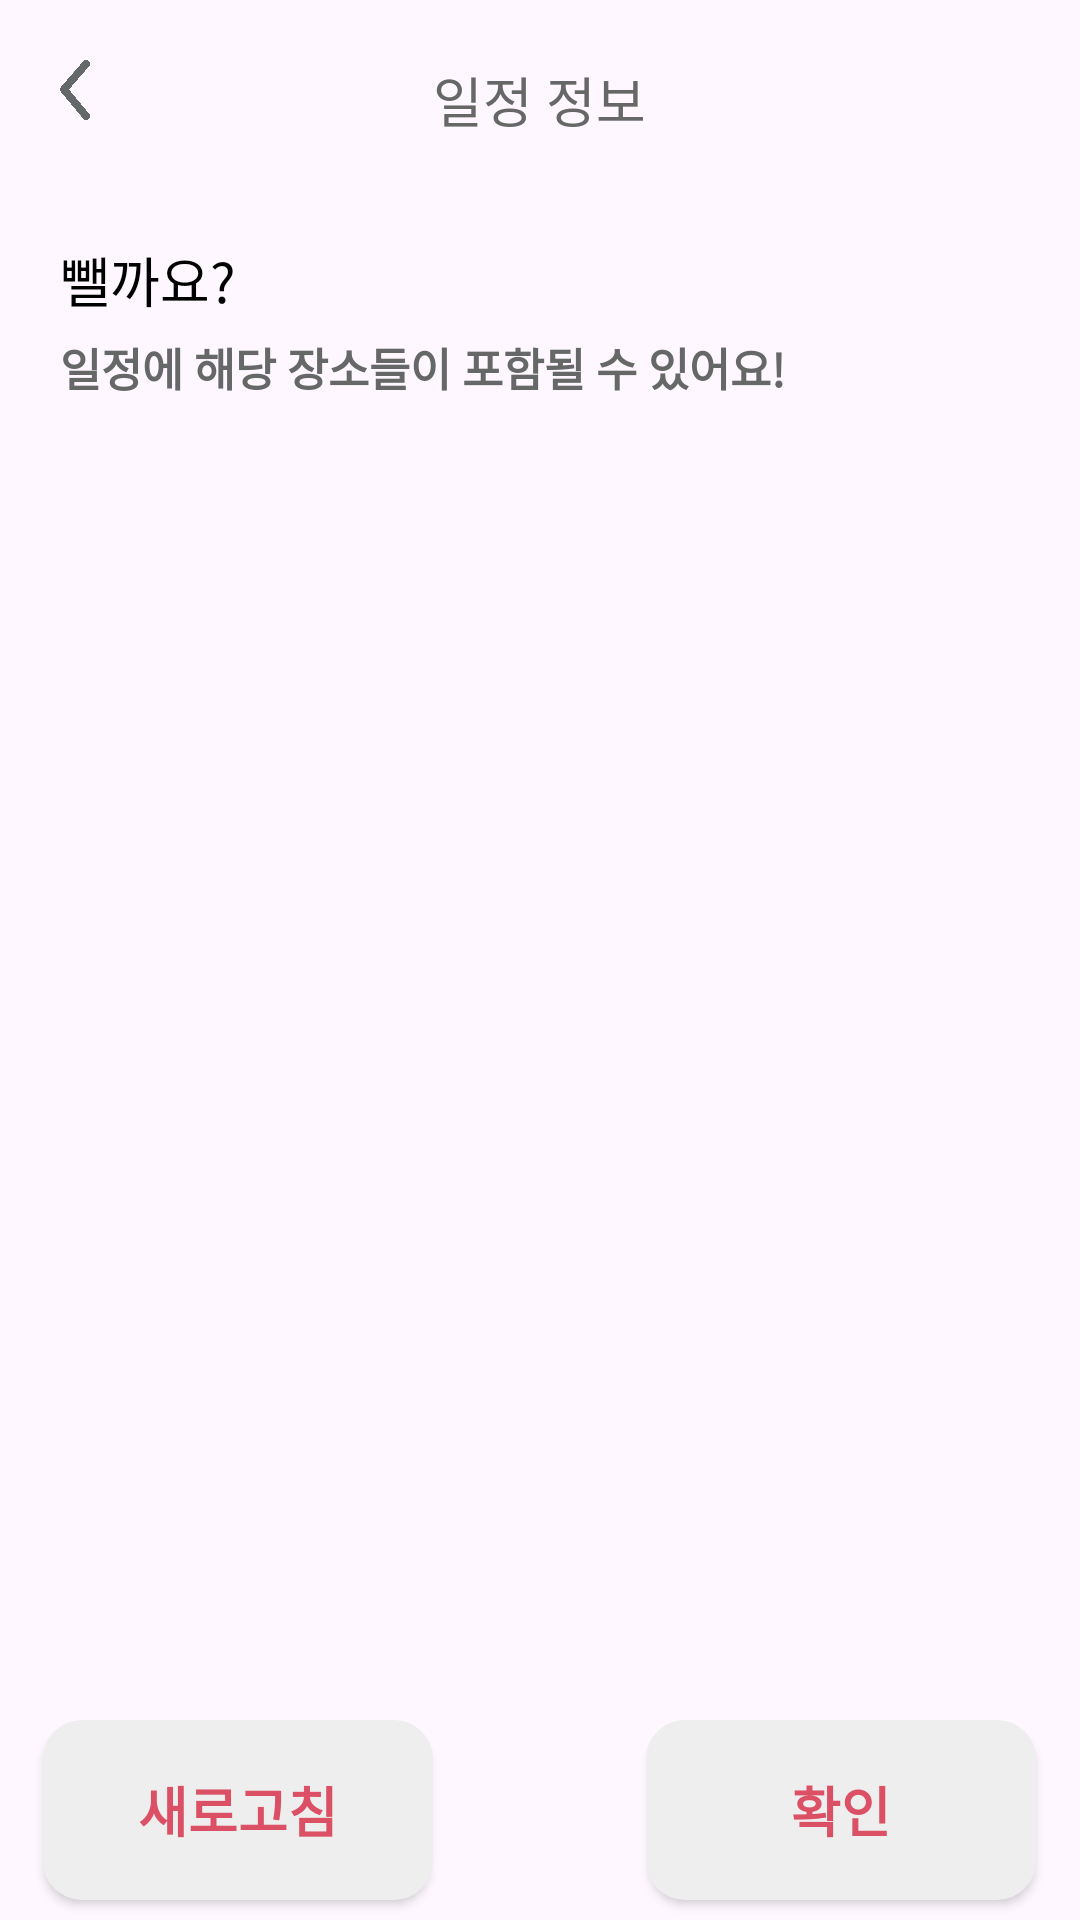

Screen size 1080×1920. Icon name, then its box in pixels as {"left": x1, "top": y1, "right": x2, "bottom": y2}:
wlsback: {"left": 60, "top": 60, "right": 90, "bottom": 120}
